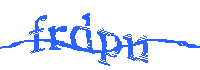d: (69, 11, 94, 55)
f: (30, 13, 47, 54)
p: (97, 27, 122, 69)
r: (46, 24, 68, 50)
u: (121, 34, 152, 66)
